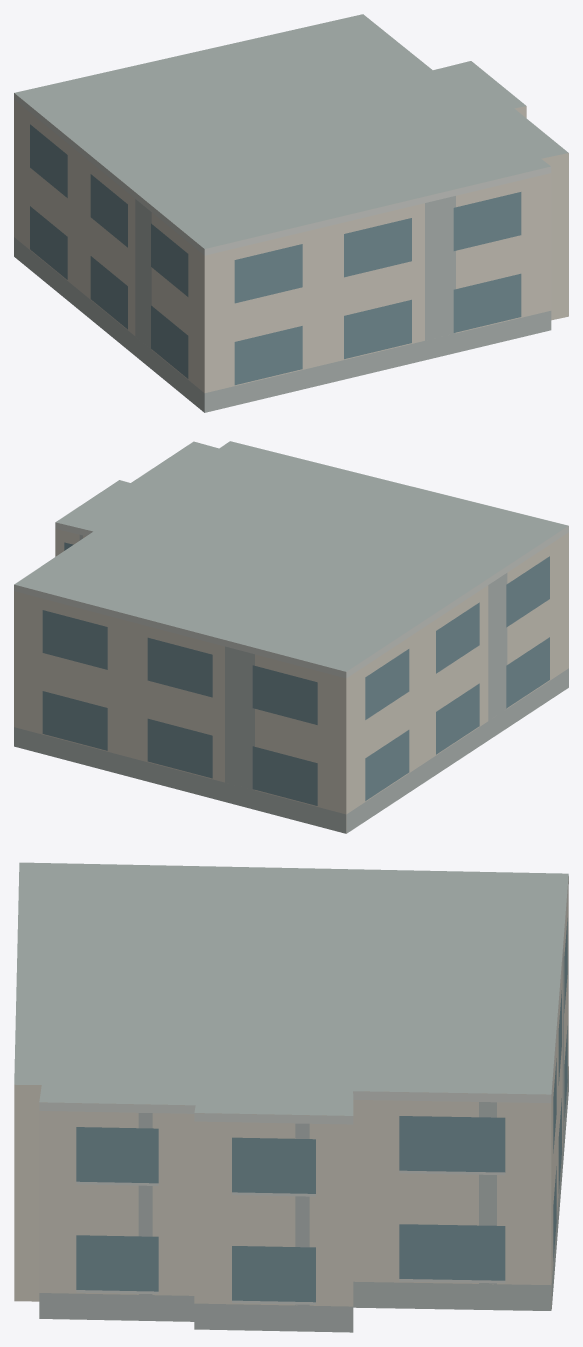
Rendered from survey-upis-33040212.glb.
3 renders of one model, top to bottom at view 1: azimuth 30°, elevation 25°; view 2: azimuth 150°, elevation 25°; view 3: azimuth 270°, elevation 25°, orthographic. The views are drawn at different scales.
Parts seen in each view (by area): view 1: survey-upis-33040212.tmp; view 2: survey-upis-33040212.tmp; view 3: survey-upis-33040212.tmp.
Part boxes in pixels (bbox=[...]): survey-upis-33040212.tmp: bbox=[14, 14, 568, 412]; survey-upis-33040212.tmp: bbox=[14, 441, 568, 833]; survey-upis-33040212.tmp: bbox=[14, 862, 568, 1332].
Bounding box in the file's own units: 15.33 × 6.1 × 14.17.
